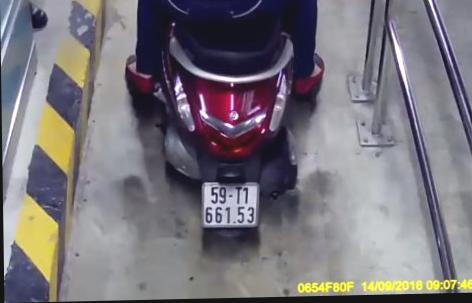License_Plate: (195, 176, 266, 237)
